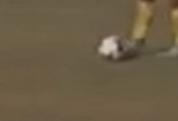ball: (93, 33, 129, 64)
